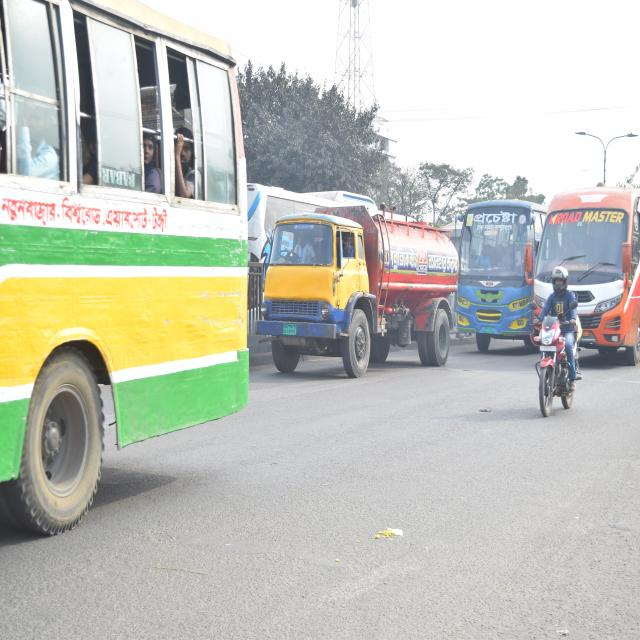bus: (0, 0, 245, 505), (533, 185, 640, 354), (460, 192, 530, 354)
motorbike: (526, 295, 576, 422)
truck: (260, 192, 456, 390)
